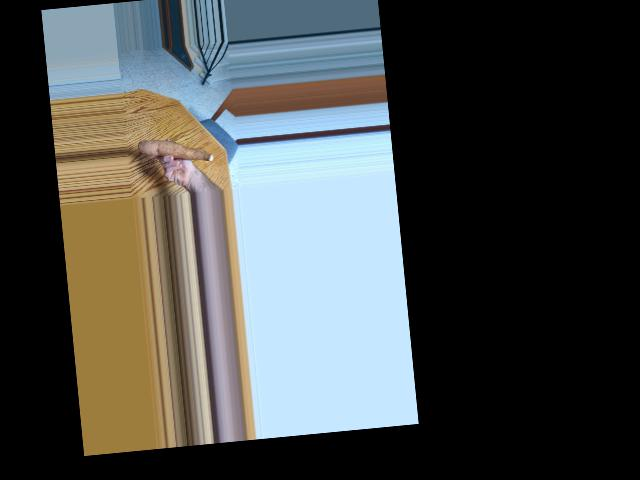sweet_potato: (139, 130, 213, 172)
